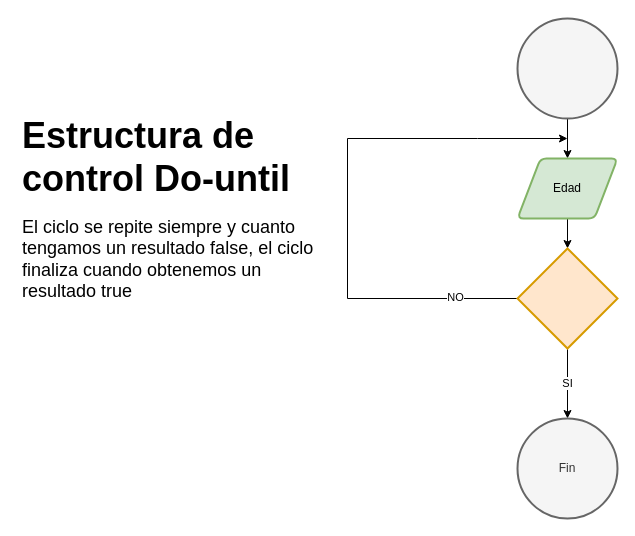
Image size: 635x536. Some labels were removed from this diagram. Each missing label, with the centre of its shape:
Edad =>18: the point at 567,298
inicio: the point at 567,68
